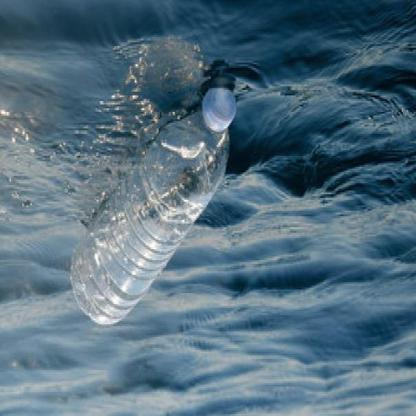plastic bottle: (70, 88, 237, 326)
